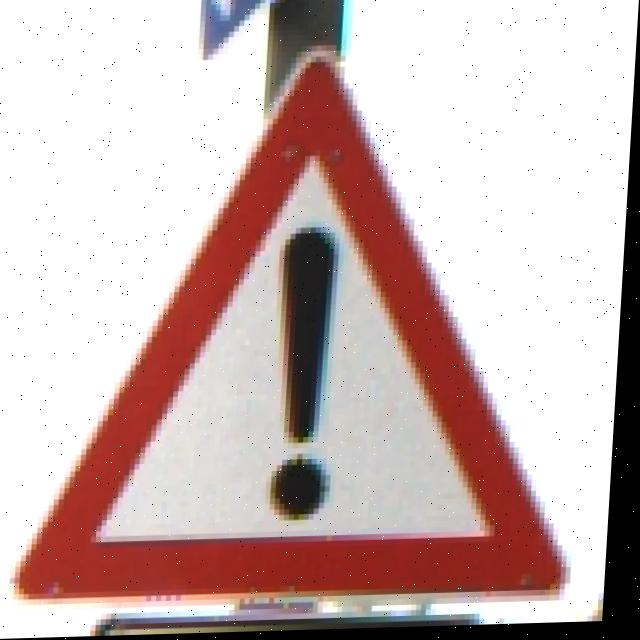warning: (11, 65, 581, 602)
